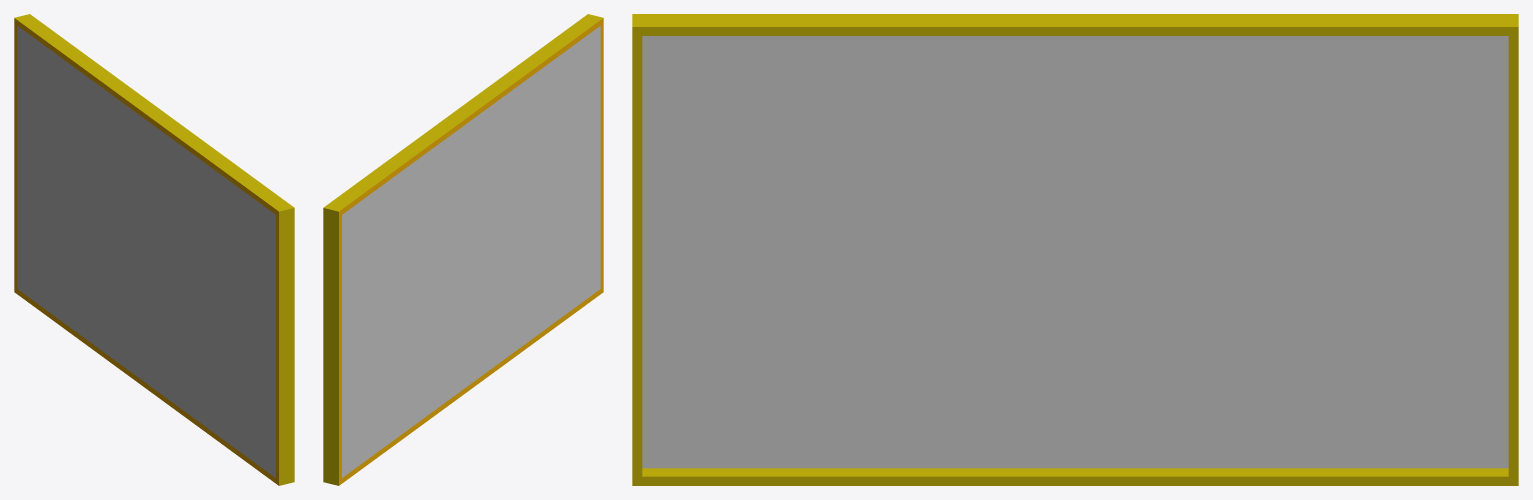
The model's file is window_7x4.dae.
3 views of the same model, side by side, from view 1: azimuth 30°, elevation 25°; view 2: azimuth 150°, elevation 25°; view 3: azimuth 270°, elevation 25° (orthographic). The views are drawn at different scales.
Visible parts, largest first — view 1: Cube; view 2: Cube; view 3: Cube.
Boxes of the visible parts, x1=… form: Cube: x1=14, y1=14, x2=294, y2=485; Cube: x1=323, y1=14, x2=603, y2=485; Cube: x1=632, y1=14, x2=1518, y2=485.
Size of the model in its own units: 0.06 by 1.75 by 1.
